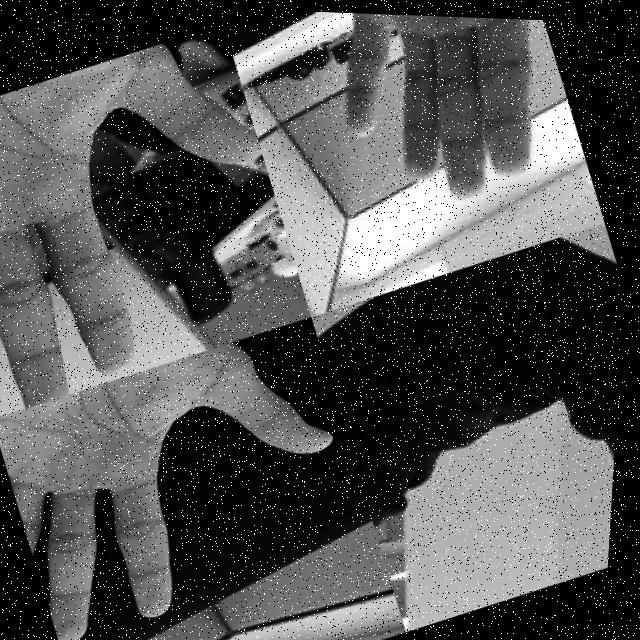hand: (0, 15, 327, 428), (0, 307, 388, 640), (258, 8, 596, 248), (509, 412, 622, 586)
